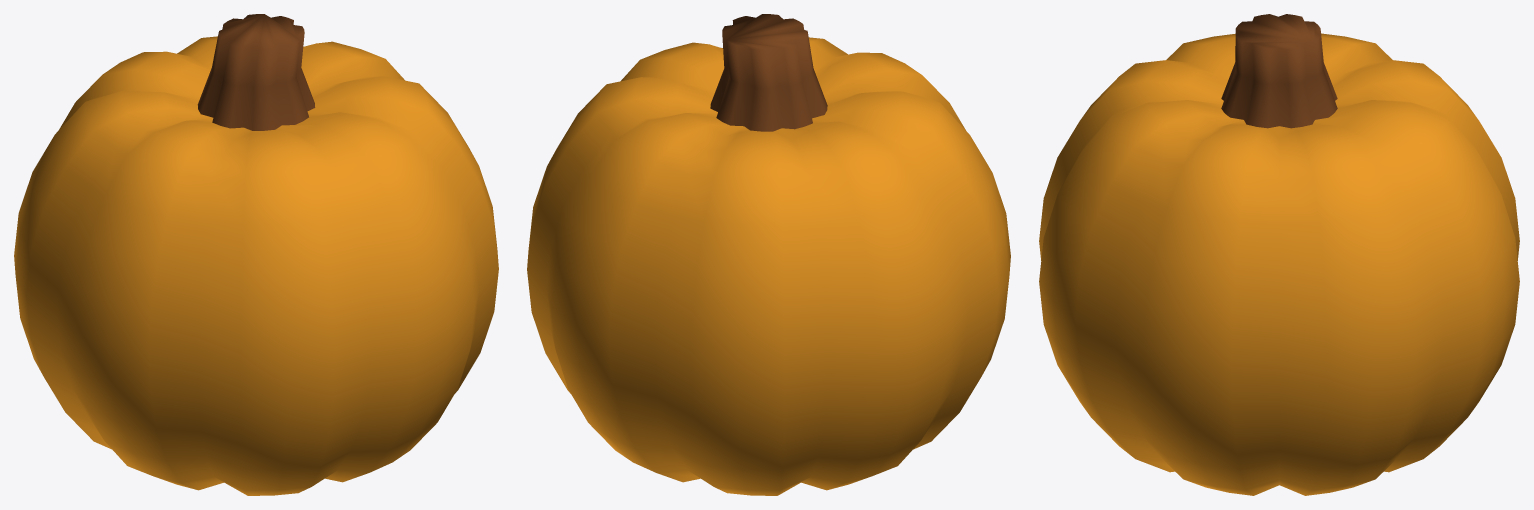
The model's file is smallPumpkin.fbx.
3 views of the same model, side by side, from view 1: azimuth 30°, elevation 25°; view 2: azimuth 150°, elevation 25°; view 3: azimuth 270°, elevation 25° (orthographic).
Visible parts, largest first — view 1: Sphere; view 2: Sphere; view 3: Sphere.
Part boxes in pixels (x1,y1,x2,y2): Sphere: (14,14,498,495); Sphere: (527,14,1010,495); Sphere: (1039,14,1519,495).
Size of the model in its own units: 197 by 188 by 197.
